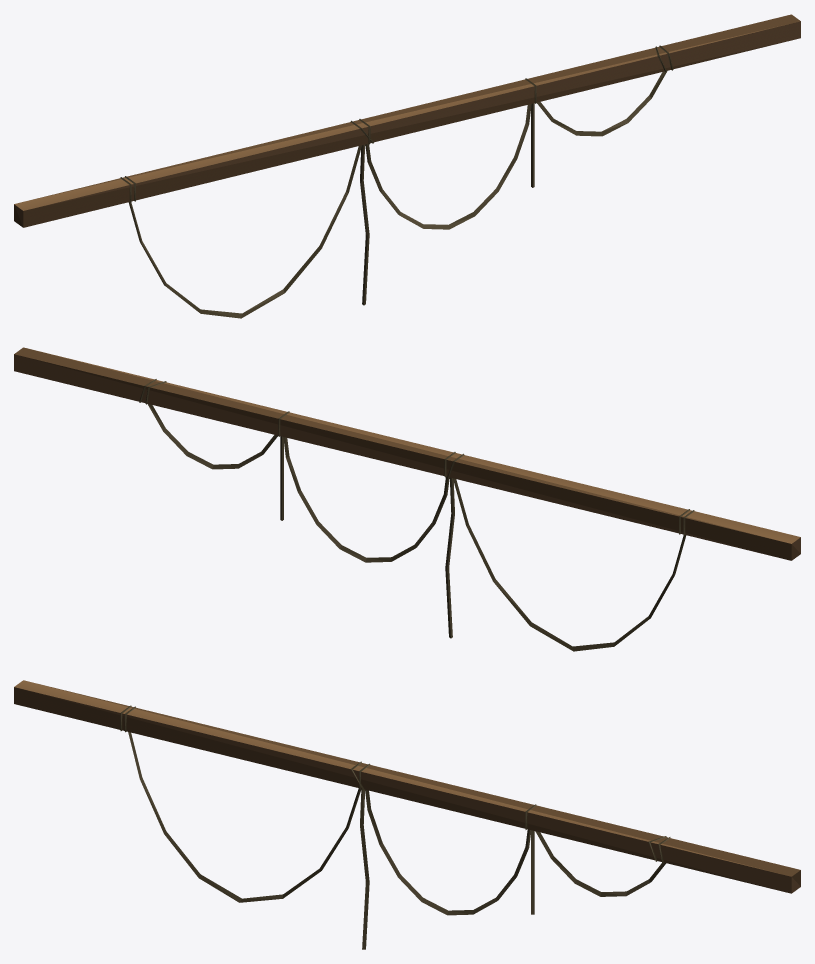
The model's file is Wood_Big_Beam_1_Lod0.fbx.
3 views of the same model, one above another, from view 1: azimuth 30°, elevation 25°; view 2: azimuth 150°, elevation 25°; view 3: azimuth 330°, elevation 25° (orthographic).
Parts seen in each view (by area): view 1: polySurface1107; view 2: polySurface1107; view 3: polySurface1107.
Boxes of the visible parts, left/top/right/bottom form: polySurface1107: left=14, top=14, right=800, bottom=318; polySurface1107: left=14, top=347, right=800, bottom=651; polySurface1107: left=14, top=680, right=800, bottom=949.
Bounding box in the file's own units: 2400 × 537 × 55.
Materials: 1 (1 with a texture image).
